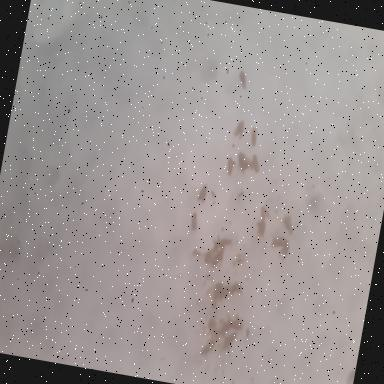pbw: (204, 318, 223, 342), (212, 235, 233, 253), (208, 285, 222, 310), (202, 246, 219, 266), (236, 152, 253, 172), (201, 338, 217, 357), (232, 119, 246, 140), (210, 248, 224, 268), (224, 330, 237, 350), (258, 204, 272, 222), (226, 318, 244, 332), (282, 216, 296, 234), (196, 184, 208, 204), (271, 236, 289, 249), (250, 154, 262, 173), (278, 244, 290, 262), (226, 156, 236, 176), (249, 127, 259, 147), (238, 70, 248, 90), (190, 212, 200, 231), (221, 284, 235, 297), (258, 219, 266, 238)
